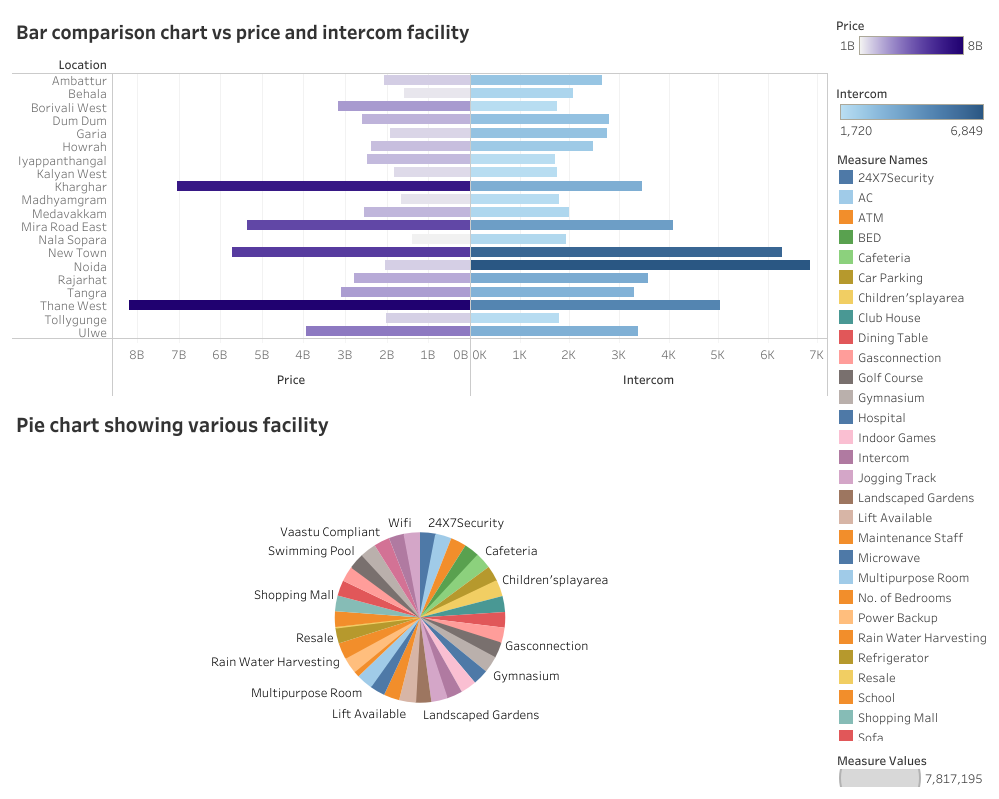

Layout of this report page (visuals, bound fields, positions):
{"tool":"tableau","page":{"name":"Dashboard 4","canvas":[1000,800],"ordinal":3},"visuals":[{"type":"worksheet","title":"Sheet 8","mark":"Automatic","rows":["Location"],"cols":["Price","Intercom"],"box":[8,8,824,392]},{"type":"legend","title":"Sheet 8","param":"[federated.17wmuzx0qbm0w31dm8loe1f24rbd].[sum:Price:qk]","box":[832,8,160,65]},{"type":"legend","title":"Sheet 8","param":"[federated.17wmuzx0qbm0w31dm8loe1f24rbd].[sum:Intercom:qk]","box":[832,73,160,65]},{"type":"legend","title":"Sheet 9","param":"[federated.17wmuzx0qbm0w31dm8loe1f24rbd].[:Measure Names]","box":[832,138,160,608]},{"type":"worksheet","title":"Sheet 9","mark":"Pie","box":[8,400,824,392]},{"type":"legend","title":"Sheet 9","param":"[federated.17wmuzx0qbm0w31dm8loe1f24rbd].[Multiple Values]","box":[832,746,160,46]}]}

Visuals, with their boxes in screenshot pixels (x1, y1, x2, y2), scaled from the page's 1000x800 canvas onto the 999x799 screenshot:
"Sheet 8" worksheet: [8, 8, 831, 400]
"Sheet 8" legend: [831, 8, 991, 73]
"Sheet 8" legend: [831, 73, 991, 138]
"Sheet 9" legend: [831, 138, 991, 745]
"Sheet 9" worksheet (Pie marks): [8, 400, 831, 791]
"Sheet 9" legend: [831, 745, 991, 791]
